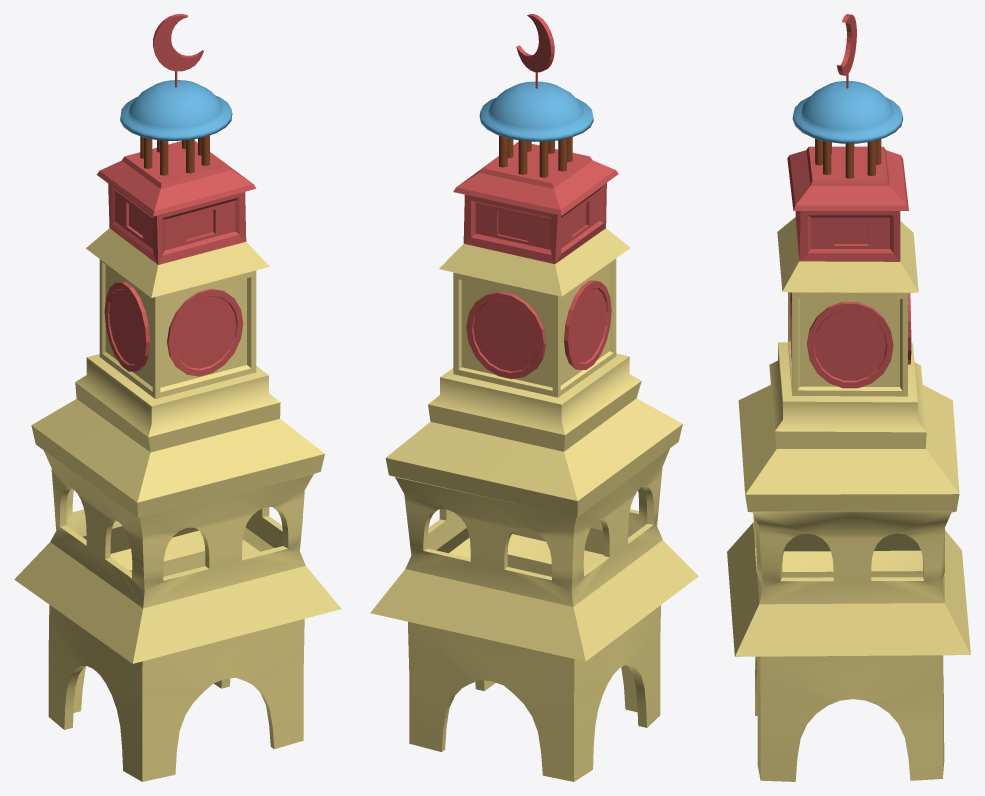
File: talou.FBX
3 views of the same model, side by side, from view 1: azimuth 30°, elevation 25°; view 2: azimuth 150°, elevation 25°; view 3: azimuth 270°, elevation 25° (orthographic).
Parts seen in each view (by area): view 1: 对象012, 对象014, 对象013, 对象016, 对象017, 对象015; view 2: 对象012, 对象014, 对象013, 对象016, 对象015, 对象017; view 3: 对象012, 对象014, 对象013, 对象016, 对象015, 对象017.
Part boxes in pixels (<box>): 对象012: <box>14,228,341,781</box>; 对象014: <box>96,141,256,264</box>; 对象013: <box>104,281,243,376</box>; 对象016: <box>120,80,232,141</box>; 对象017: <box>153,14,203,87</box>; 对象015: <box>140,135,209,175</box>; 对象012: <box>370,228,698,781</box>; 对象014: <box>453,142,618,263</box>; 对象013: <box>466,280,611,379</box>; 对象016: <box>479,81,593,141</box>; 对象015: <box>499,135,572,177</box>; 对象017: <box>516,14,554,88</box>; 对象012: <box>727,217,970,781</box>; 对象014: <box>787,146,908,261</box>; 对象013: <box>790,292,911,388</box>; 对象016: <box>792,81,903,143</box>; 对象015: <box>815,138,881,178</box>; 对象017: <box>837,14,856,88</box>.
Bounding box in the file's own units: 5.26 × 16.67 × 5.09.
